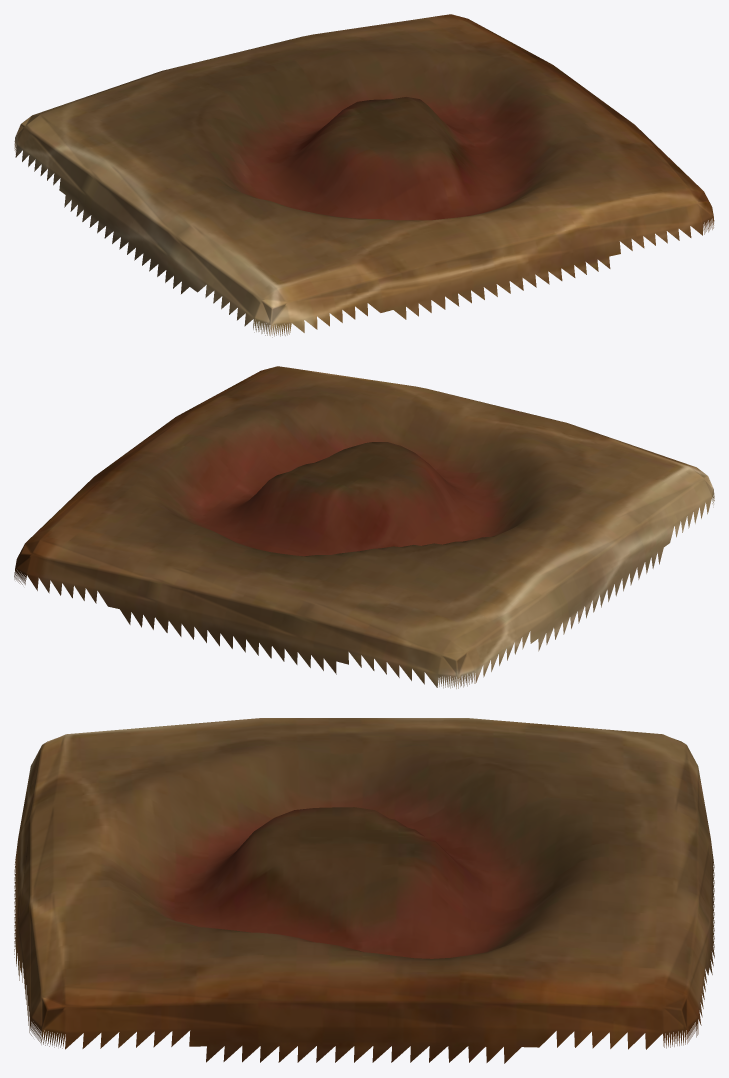
Rendered from circleHintGround.glb.
The picture shows the model from 3 angles, top to bottom: view 1: azimuth 30°, elevation 25°; view 2: azimuth 150°, elevation 25°; view 3: azimuth 270°, elevation 25°; orthographic projection. The views are drawn at different scales.
Parts seen in each view (by area): view 1: Cube; view 2: Cube; view 3: Cube.
Part boxes in pixels (x1=…): Cube: x1=14, y1=14, x2=714, y2=337; Cube: x1=14, y1=366, x2=714, y2=688; Cube: x1=14, y1=718, x2=714, y2=1063.
Bounding box in the file's own units: 0.9992 × 0.1396 × 0.9992.
Materials: 1 (1 with a texture image).
